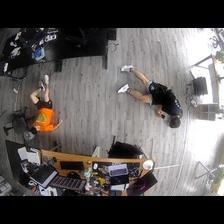fall: (116, 62, 184, 131), (28, 73, 67, 133)
